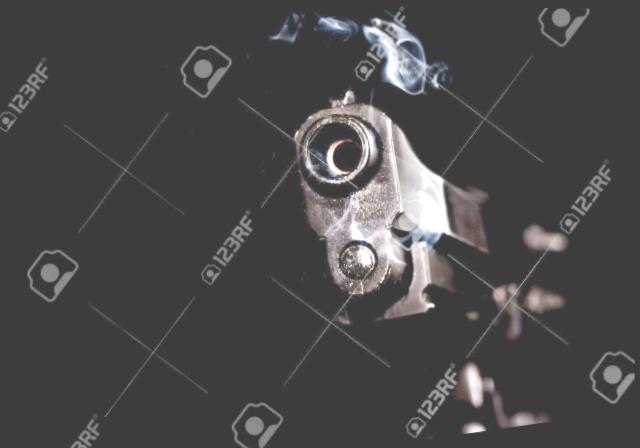pistol: (272, 52, 605, 388)
